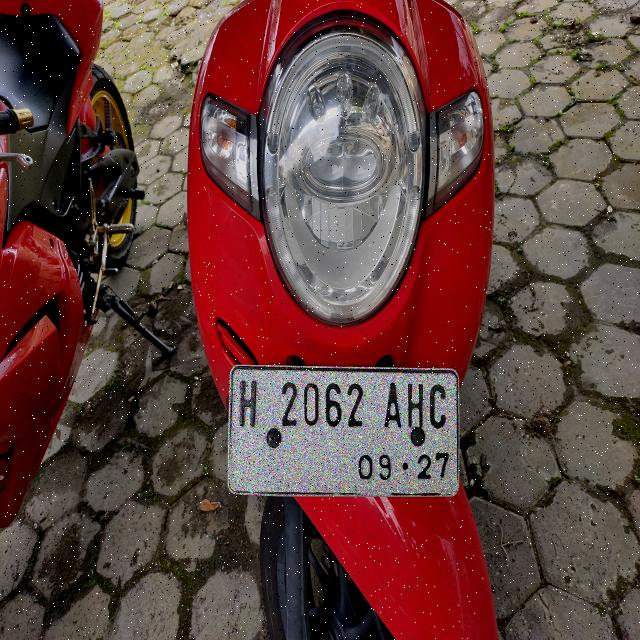plate: (229, 366, 458, 495)
